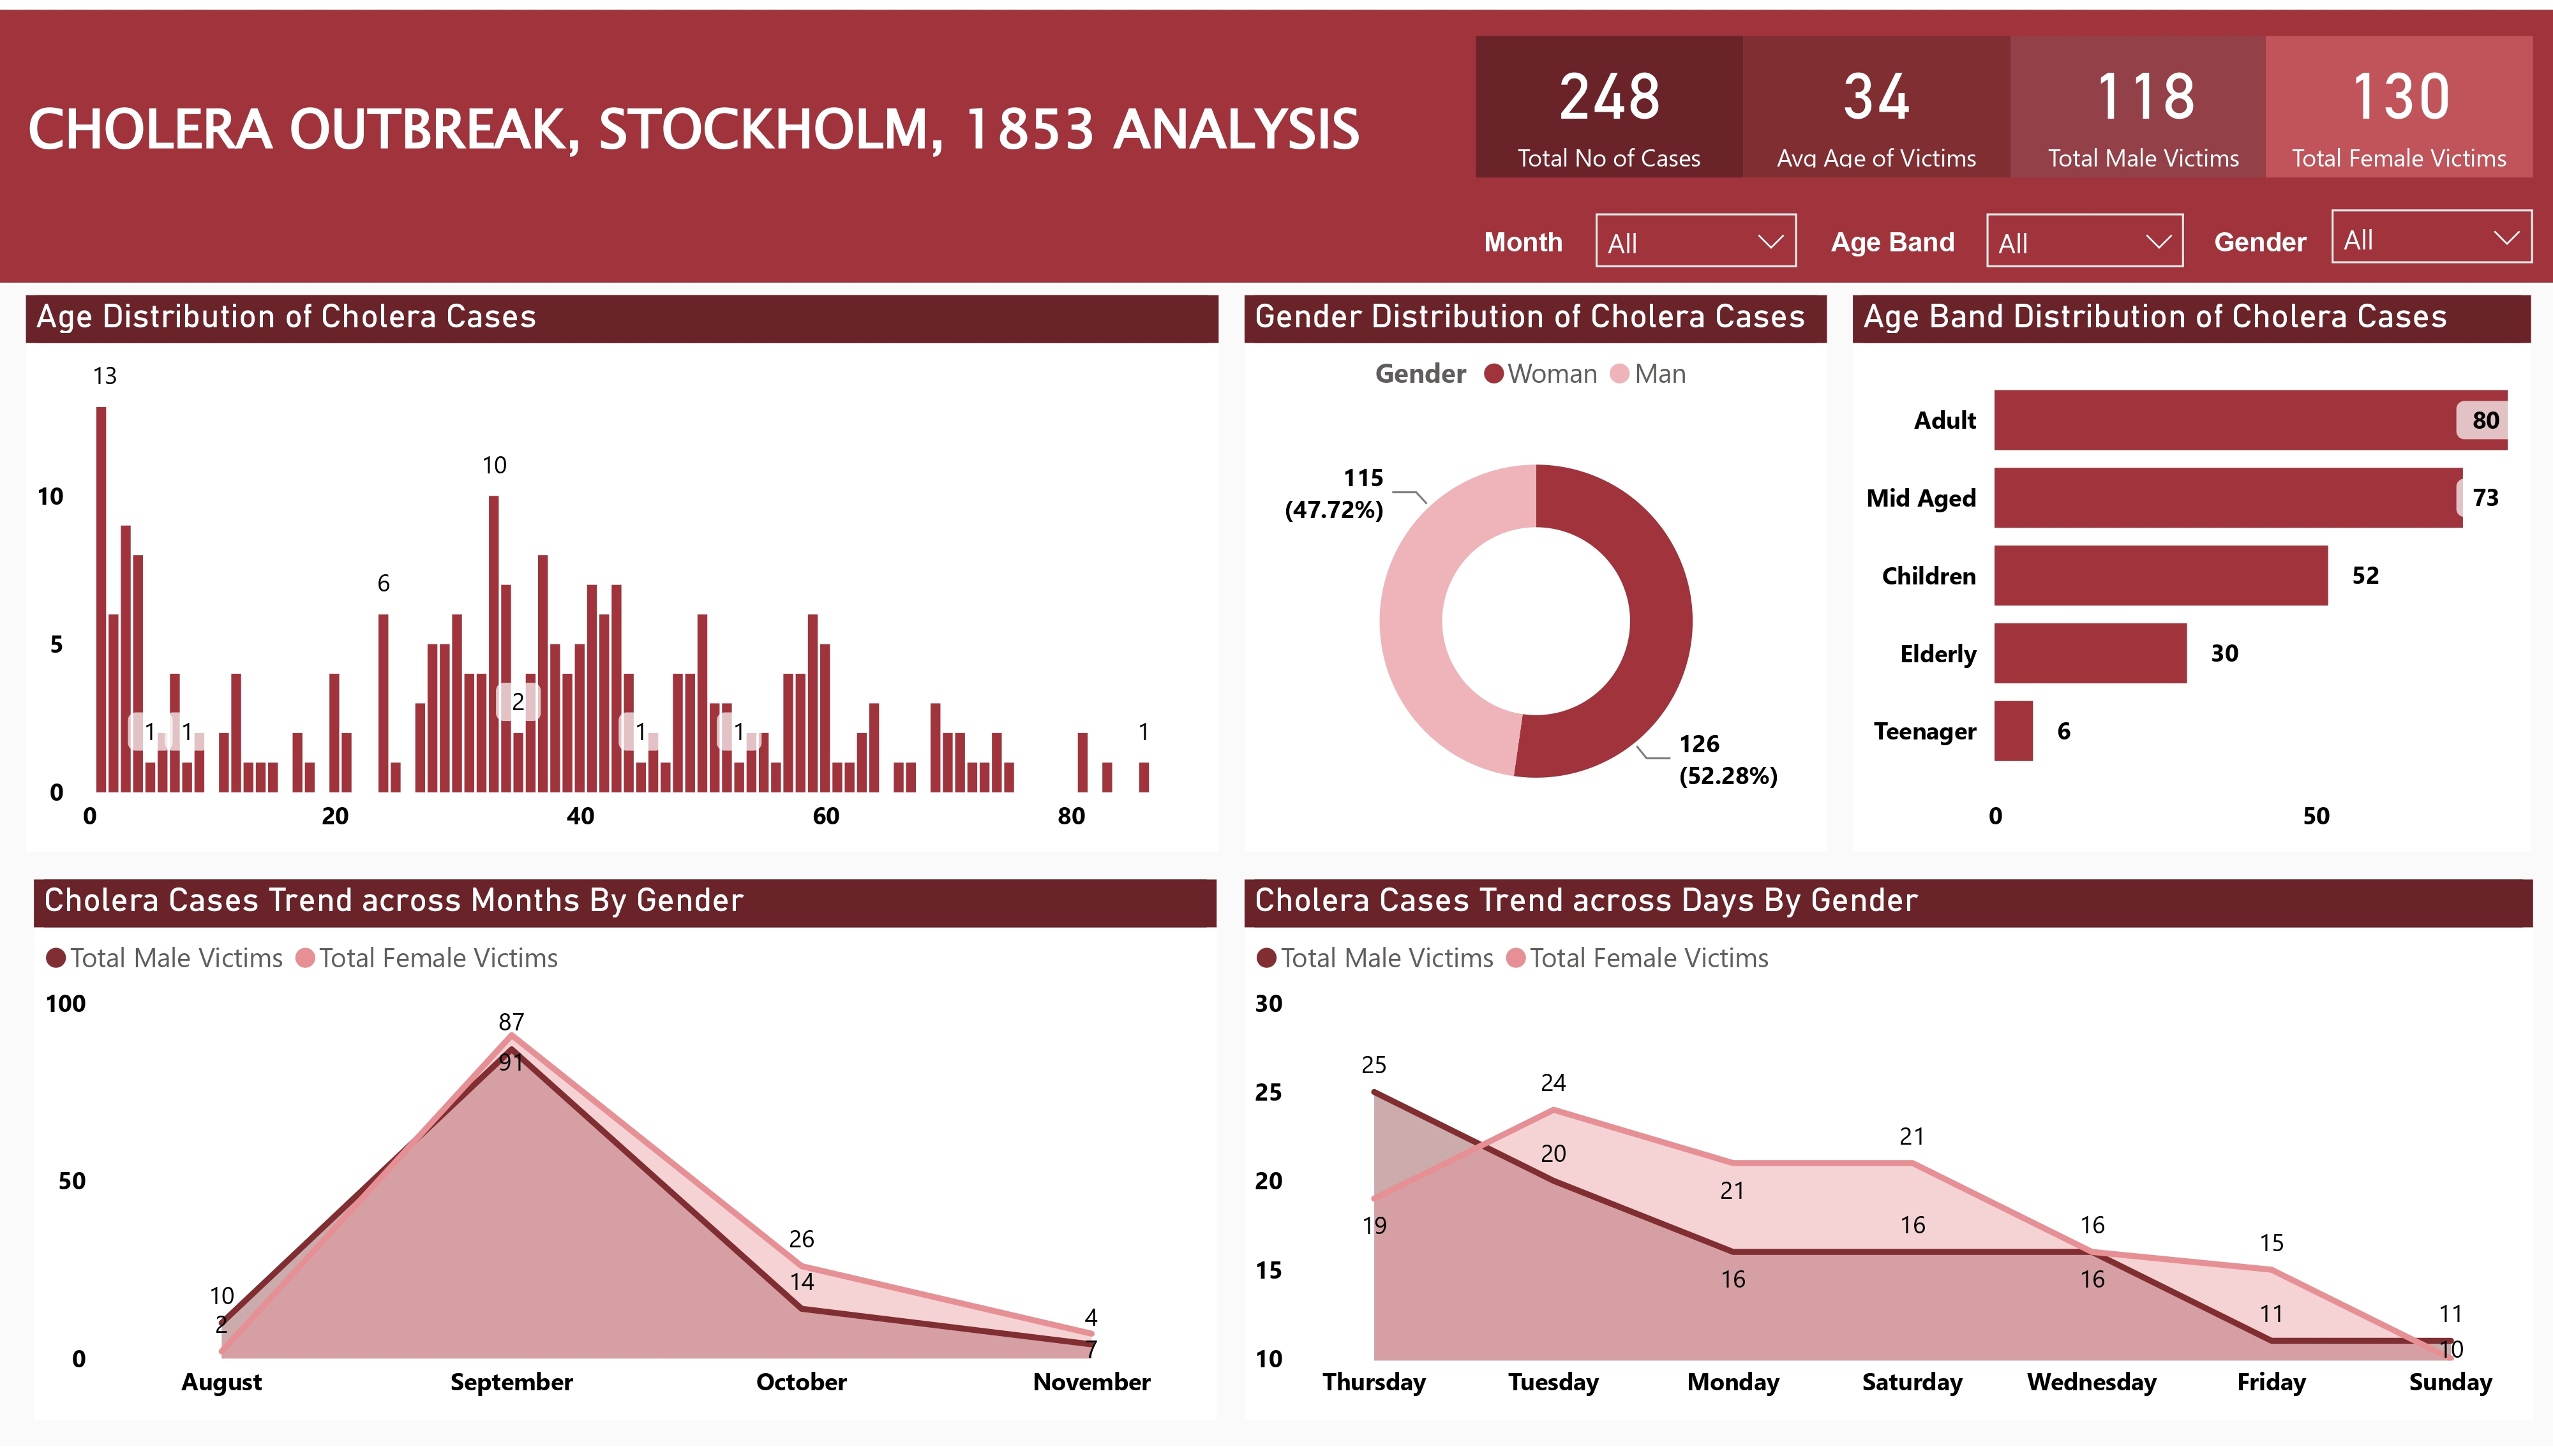

The page's visual inventory and layout, read from the dashboard file:
{"tool":"powerbi","page":{"name":"REPORT","canvas":[1280,720],"ordinal":0},"visuals":[{"type":"shape","box":[0,0,1280,136.7],"z":0},{"type":"textbox","box":[8.7,34.9,734.5,65.5],"z":1000},{"type":"card","fields":{"Values":["DAX.Total No of Cases"]},"box":[740.4,13.1,133.8,71.3],"z":2000},{"type":"card","fields":{"Values":["DAX.Avg Age of Victims"]},"box":[874.2,13.1,133.8,71.3],"z":3000},{"type":"card","fields":{"Values":["DAX.Total Male Victims"]},"box":[1008,13.1,133.8,71.3],"z":4000},{"type":"card","fields":{"Values":["DAX.Total Female Victims"]},"box":[1136,13.1,133.8,71.3],"z":5000},{"type":"lineClusteredColumnComboChart","title":"Age Distribution of Cholera Cases","fields":{"Category":["kolera-katarina-1853_New.Age"],"Y":["DAX.Total No of Cases"]},"box":[13.1,142.5,597.8,279.3],"z":6000},{"type":"donutChart","title":"Gender Distribution of Cholera Cases","fields":{"Y":["DAX.Total No of Cases"],"Category":["kolera-katarina-1853_New.Gender"]},"box":[624,142.5,292.4,279.3],"z":7000},{"type":"barChart","title":"Age Band Distribution of Cholera Cases","fields":{"Category":["kolera-katarina-1853_New.Age Band"],"Y":["DAX.Total No of Cases"]},"box":[929.5,142.5,340.4,279.3],"z":8000},{"type":"areaChart","title":"Cholera Cases Trend across Months By Gender","fields":{"Category":["kolera-katarina-1853_New.Date_Of_Death.Variation.Date Hierarchy.Month"],"Y":["DAX.Total Male Victims","DAX.Total Female Victims"]},"box":[17.5,436.4,593.5,270.5],"z":9000},{"type":"areaChart","title":"Cholera Cases Trend across Days By Gender","fields":{"Y":["DAX.Total Male Victims","DAX.Total Female Victims"],"Category":["kolera-katarina-1853_New.Day"]},"box":[624,436.4,645.8,270.5],"z":10000},{"type":"slicer","fields":{"Values":["kolera-katarina-1853_New.Age Band"]},"box":[986.2,91.6,119.3,42.2],"z":11000},{"type":"slicer","fields":{"Values":["kolera-katarina-1853_New.Gender"]},"box":[1159.3,90.2,120.7,42.2],"z":12000},{"type":"textbox","box":[913.5,101.8,112,40.7],"z":13000},{"type":"textbox","box":[1105.5,101.8,112,40.7],"z":14000},{"type":"textbox","box":[738.9,101.8,107.6,40.7],"z":15000},{"type":"slicer","fields":{"Values":["kolera-katarina-1853_New.Date_Of_Death.Variation.Date Hierarchy.Month"]},"box":[789.8,91.6,120.7,42.2],"z":16000}]}

Visuals, with their boxes in screenshot pixels (x1, y1, x2, y2), scaled from the page's 1280x720 canvas onto the 2553x1456 screenshot:
shape: crop(0, 0, 2552, 276)
textbox: crop(17, 71, 1482, 203)
card - DAX.Total No of Cases: crop(1477, 27, 1744, 171)
card - DAX.Avg Age of Victims: crop(1744, 27, 2010, 171)
card - DAX.Total Male Victims: crop(2010, 27, 2277, 171)
card - DAX.Total Female Victims: crop(2266, 27, 2533, 171)
"Age Distribution of Cholera Cases" lineClusteredColumnComboChart: crop(26, 288, 1218, 853)
"Gender Distribution of Cholera Cases" donutChart: crop(1245, 288, 1828, 853)
"Age Band Distribution of Cholera Cases" barChart: crop(1854, 288, 2533, 853)
"Cholera Cases Trend across Months By Gender" areaChart: crop(35, 882, 1218, 1429)
"Cholera Cases Trend across Days By Gender" areaChart: crop(1245, 882, 2533, 1429)
slicer - kolera-katarina-1853_New.Age Band: crop(1967, 185, 2205, 271)
slicer - kolera-katarina-1853_New.Gender: crop(2312, 182, 2552, 268)
textbox: crop(1822, 206, 2046, 288)
textbox: crop(2205, 206, 2429, 288)
textbox: crop(1474, 206, 1688, 288)
slicer - kolera-katarina-1853_New.Date_Of_Death.Variation.Date Hierarchy.Month: crop(1575, 185, 1816, 271)
